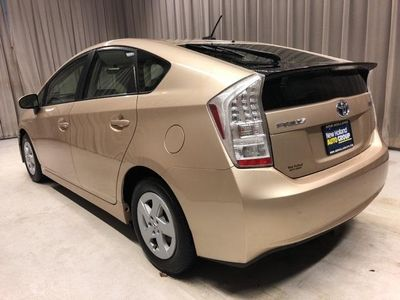Toyota Prius: (18, 37, 390, 276)
